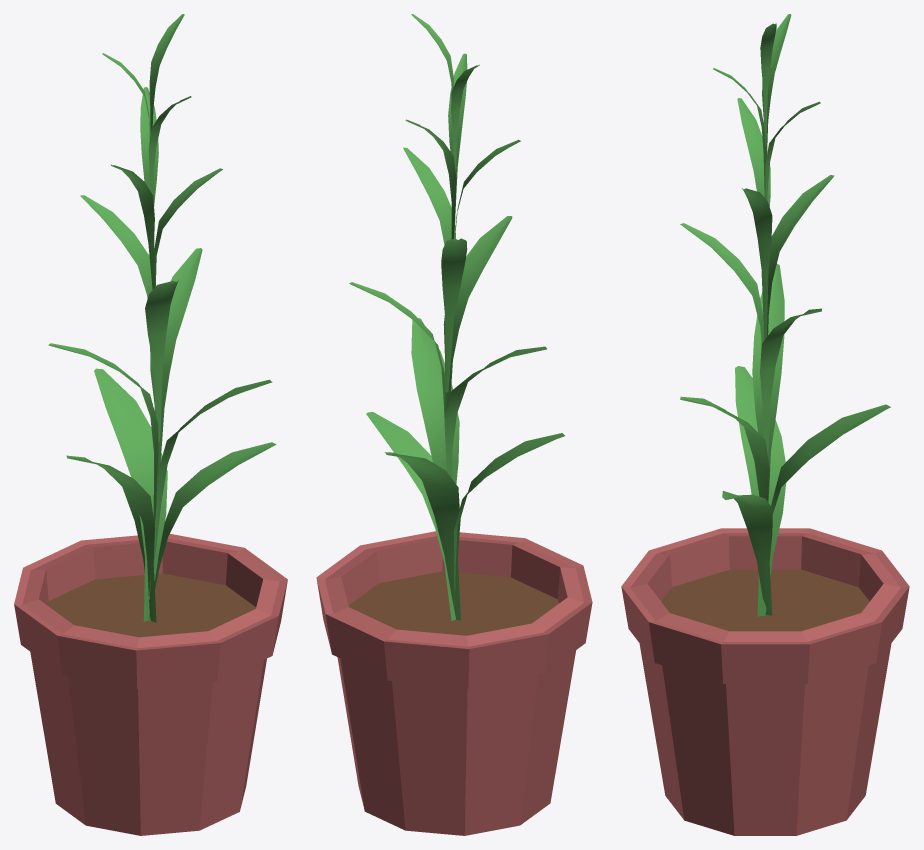
File: PotPlanteVerte.fbx
3 renders of one model, left to right at view 1: azimuth 30°, elevation 25°; view 2: azimuth 150°, elevation 25°; view 3: azimuth 270°, elevation 25°, orthographic. The views are drawn at different scales.
Parts seen in each view (by area): view 1: Plante; view 2: Plante; view 3: Plante.
Part boxes in pixels (box(x1,y1,x2,y2)): Plante: box(14, 14, 287, 835); Plante: box(316, 14, 592, 835); Plante: box(621, 14, 909, 835).
Bounding box in the file's own units: 164 × 521 × 172.
